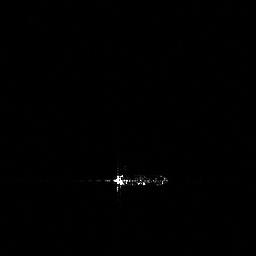ship: (111, 168, 169, 192)
